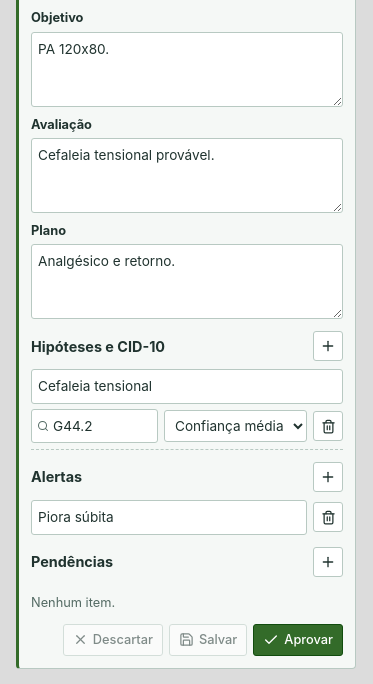
Test: SoapEditor › sem edição aprova direto, sem gravar versão do médico
(page scrolled)
Expected: the text box labelled "Plano" is shown, 31,244 -> 343,320
Expected: the button "Salvar" is disabled, 169,624 -> 247,656
Click the button "Aprovar" at (298, 640), box 253,624 -> 343,656
(page scrolled)
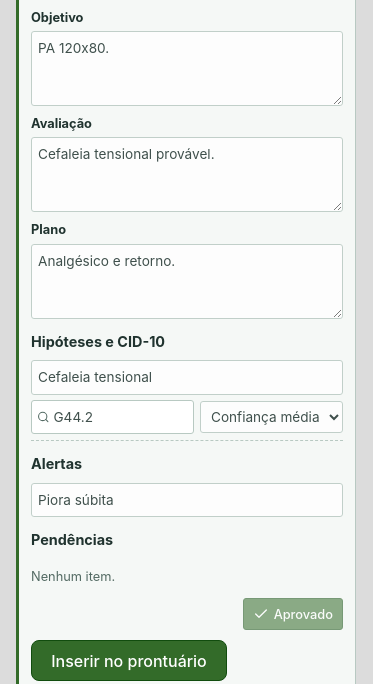
Result: the button "Aprovado" is shown at 243,598 -> 343,630
